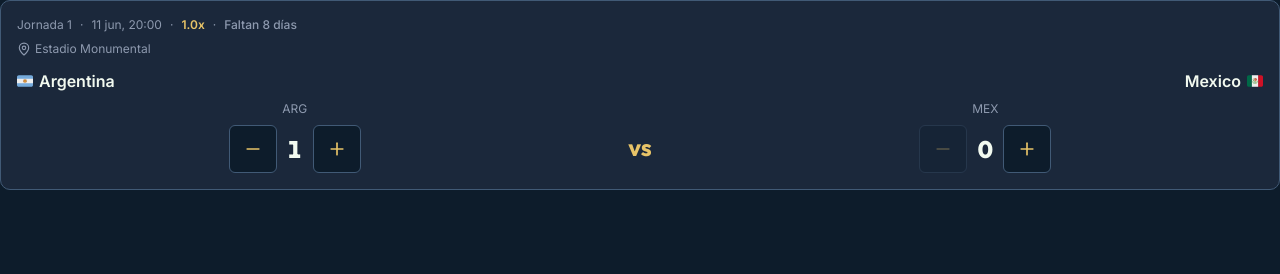
Test case: MatchCard › muestra 'Deshacer cambio' tras editar una prediccion existente y la restaura
The width and height of the screenshot is (1280, 274).
Click the button named "Incrementar goles de Argentina" at (337, 149), box [313, 125, 361, 173]
Wait 1500 ms
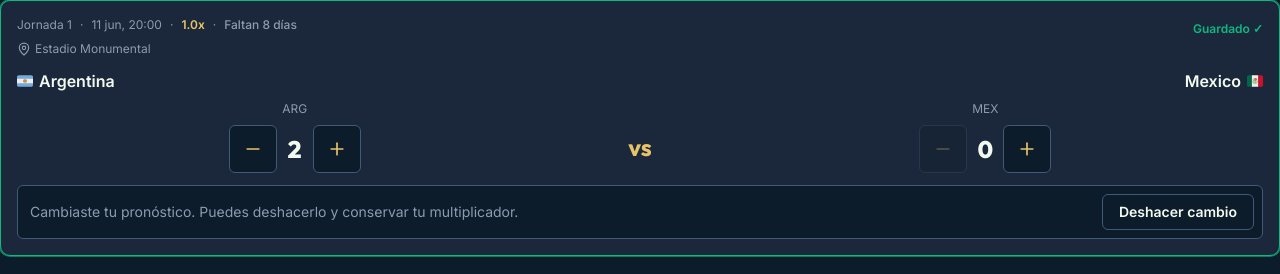
Check: the button "Deshacer cambio" is shown
Click the button "Deshacer cambio" at (1178, 212), box [1102, 194, 1254, 230]
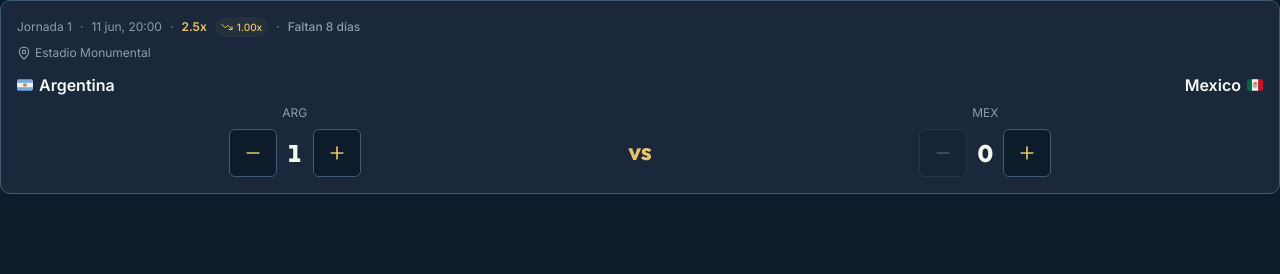
Check: the text "1" is shown, box [288, 138, 302, 168]
Check: the text "2.5x" is shown, box [181, 19, 207, 35]
Check: the button "Deshacer cambio" is gone
